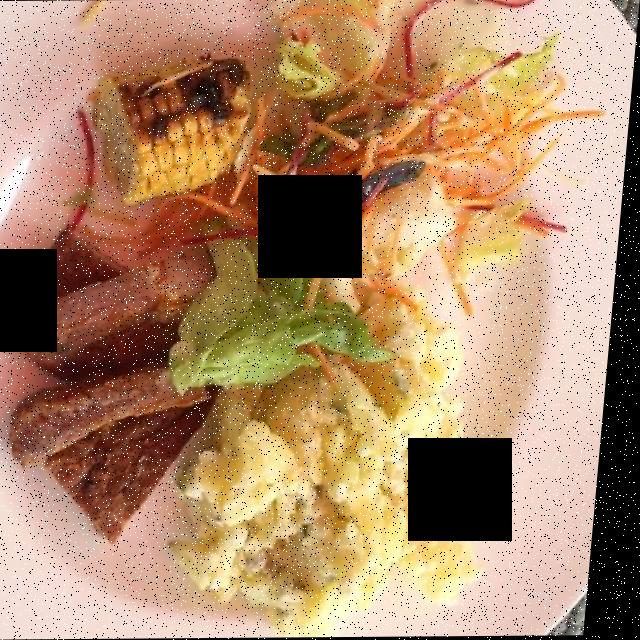carrot-raw: (85, 73, 582, 256)
corn: (90, 55, 273, 195)
pork: (0, 197, 224, 527)
potato-salad-with-mayonnaise-yogurt-dressing: (179, 253, 502, 629)
salad-leaf-salad-green: (185, 5, 570, 419)
